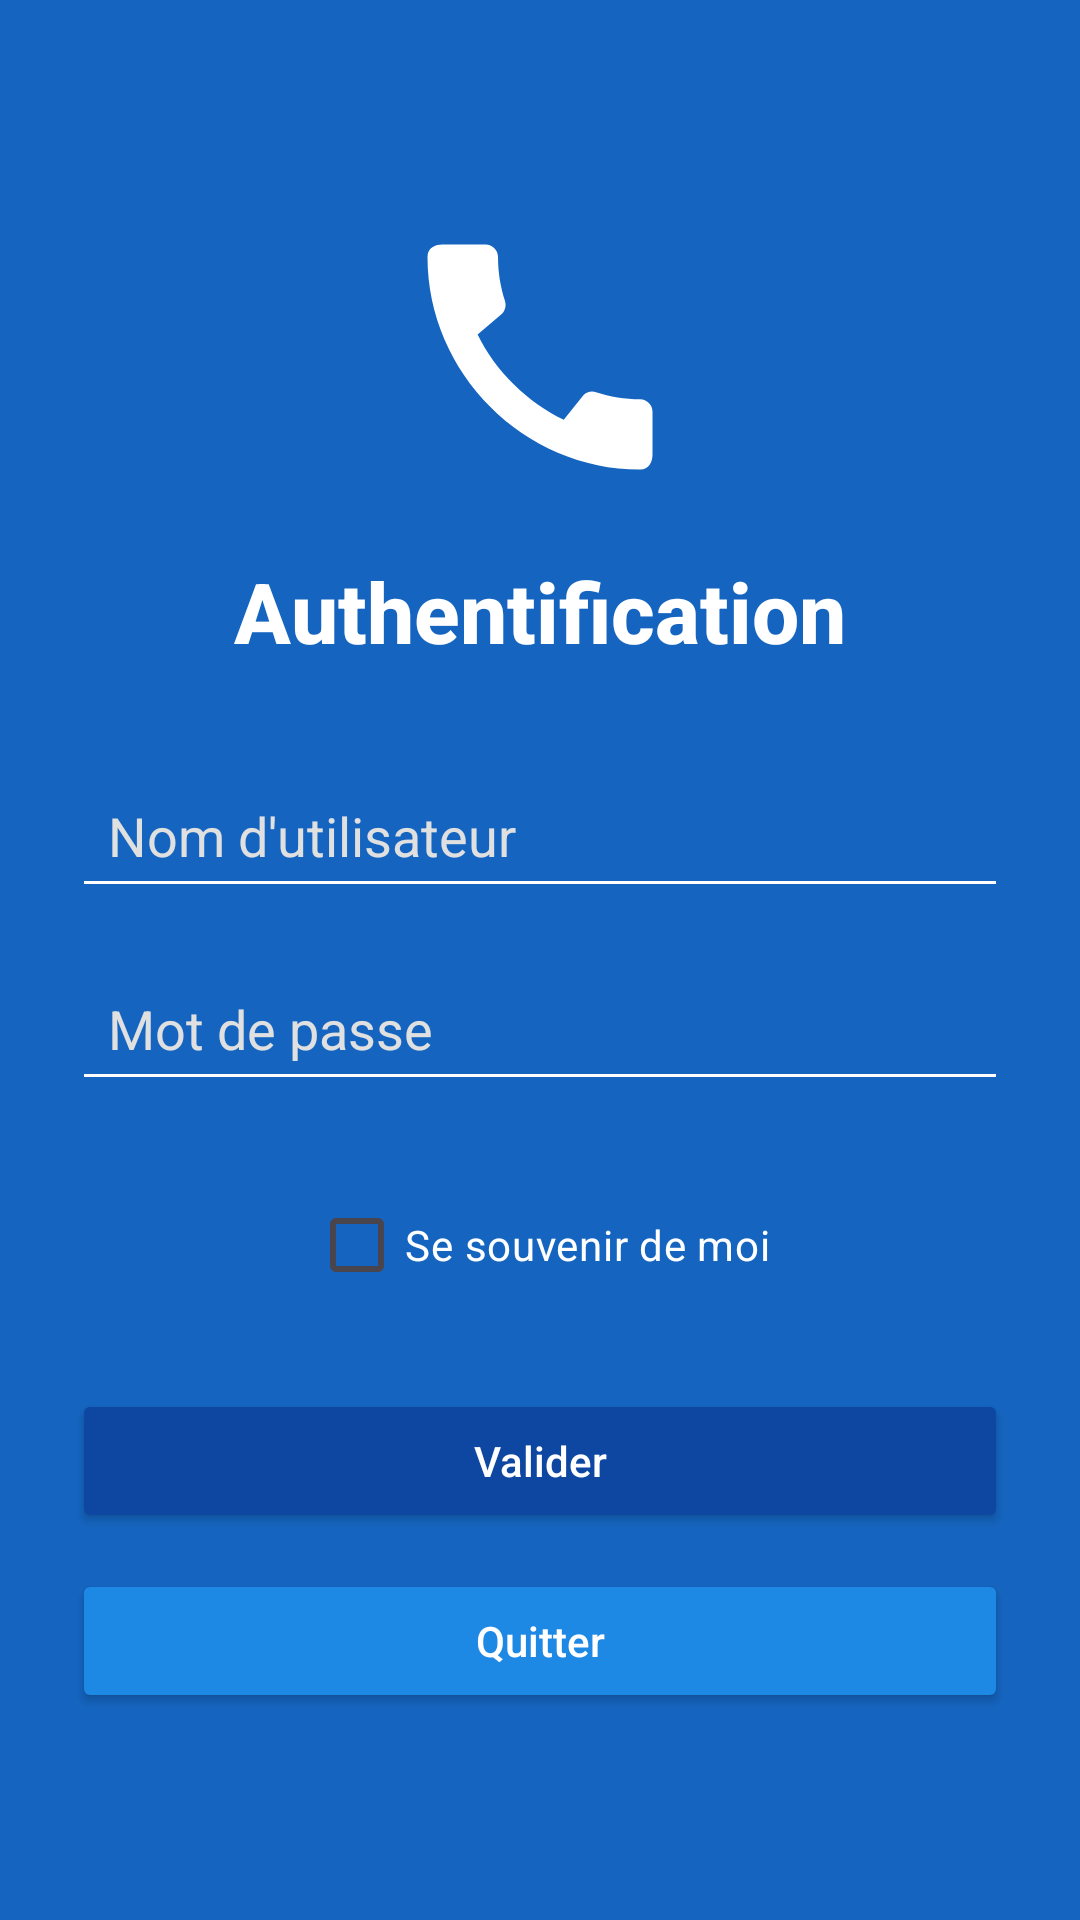

Icon bounding boxes for this 1080x1920 phone screenshot, format [x1,y1,x2,y2]:
call: [427,244,653,470]
